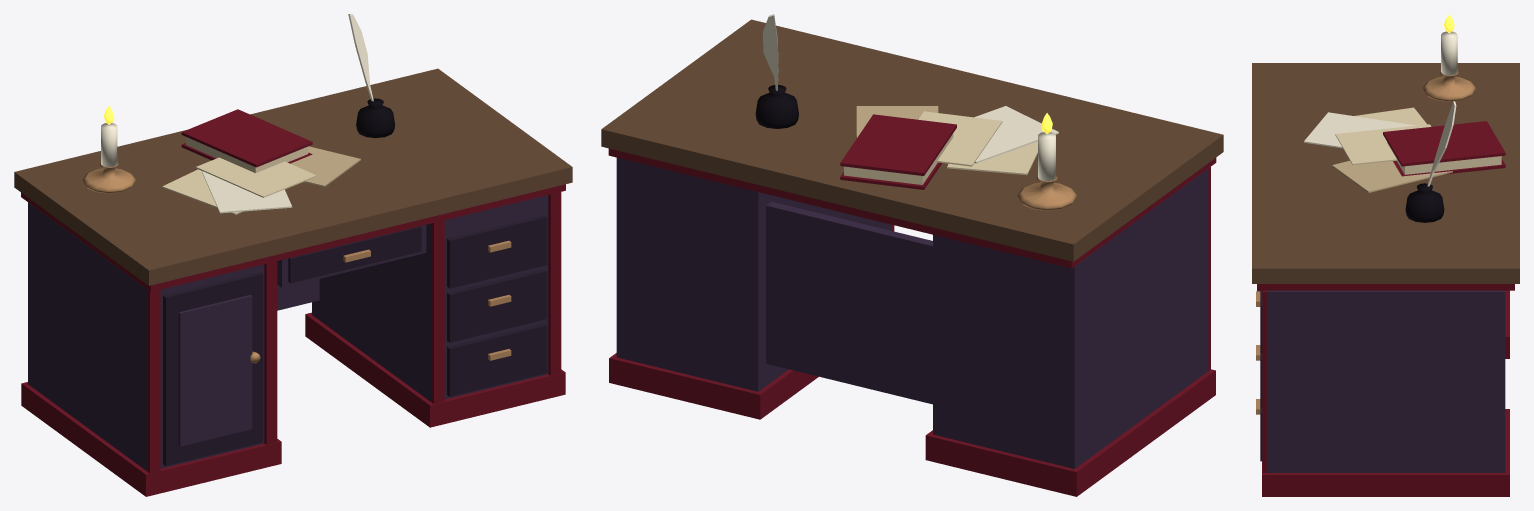
The model's file is desk.glb.
3 views of the same model, side by side, from view 1: azimuth 30°, elevation 25°; view 2: azimuth 150°, elevation 25°; view 3: azimuth 270°, elevation 25° (orthographic). The views are drawn at different scales.
Visible parts, largest first — view 1: desk; view 2: desk; view 3: desk.
Part boxes in pixels (x1=…): desk: x1=14, y1=14, x2=572, y2=496; desk: x1=601, y1=14, x2=1223, y2=496; desk: x1=1252, y1=14, x2=1519, y2=496.
Bounding box in the file's own units: 1 × 0.7651 × 0.55.
